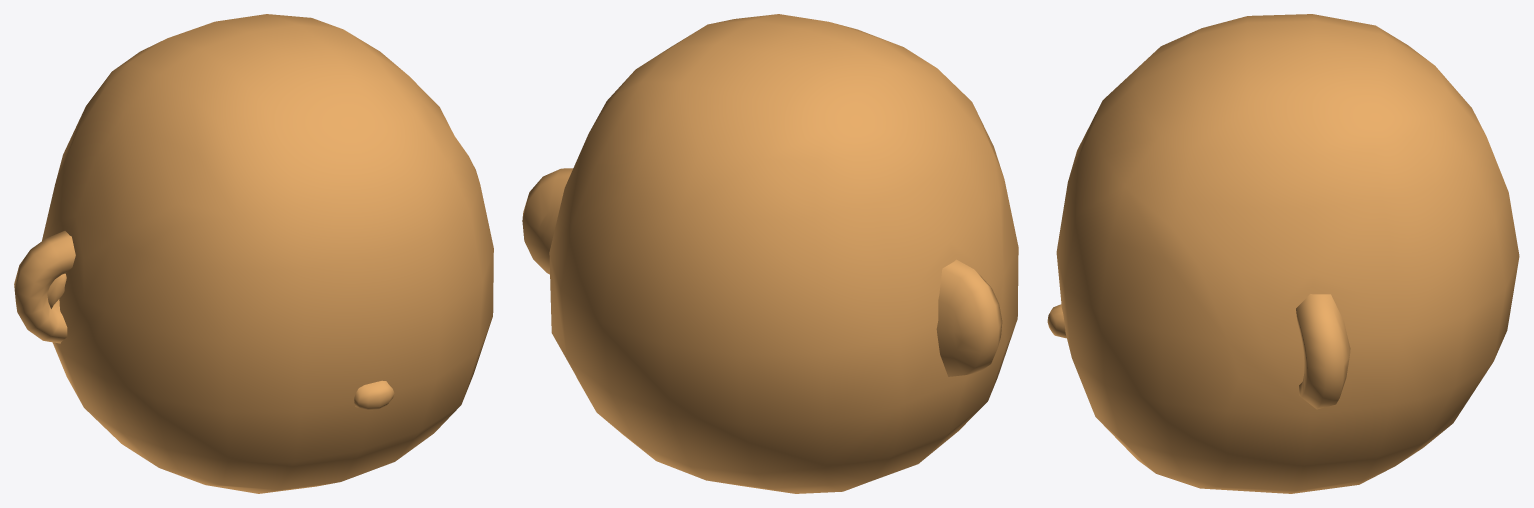
File: Head01_Male.fbx
3 views of the same model, side by side, from view 1: azimuth 30°, elevation 25°; view 2: azimuth 150°, elevation 25°; view 3: azimuth 270°, elevation 25° (orthographic). The views are drawn at different scales.
Parts seen in each view (by area): view 1: Head01_Male; view 2: Head01_Male; view 3: Head01_Male.
Part boxes in pixels (box(x1,y1,x2,y2)): Head01_Male: box(14, 14, 493, 493); Head01_Male: box(522, 14, 1018, 493); Head01_Male: box(1047, 14, 1519, 493).
Bounding box in the file's own units: 73.57 × 62.97 × 63.75.
